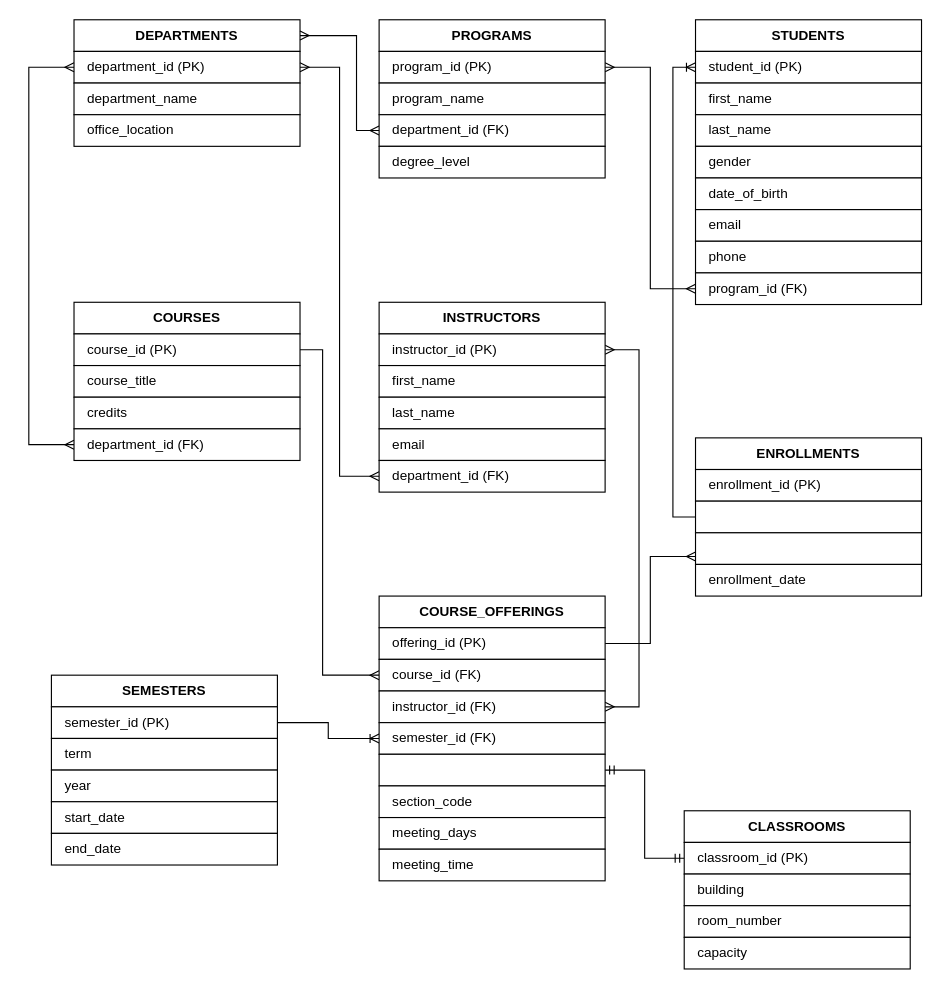
Image size: 941x989. Some labels were removed from this diagram. Here are the shapes that lost their labels. From the top down, the box of each, then its label:
(694, 500, 922, 533): student_id (FK)
(694, 532, 922, 564): offering_id (FK)
(378, 753, 605, 786): classroom_id (FK)
